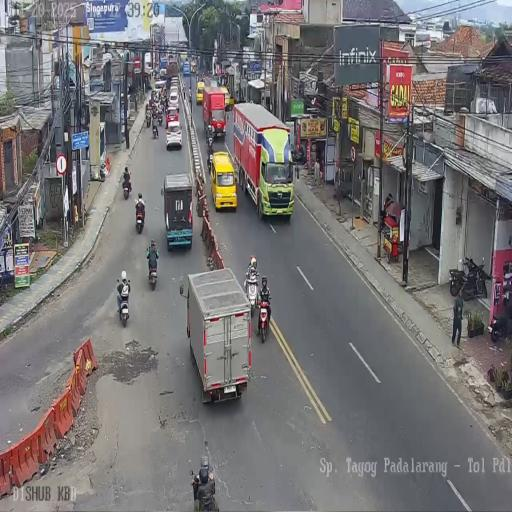car: (210, 152, 237, 212), (166, 122, 183, 150), (196, 81, 205, 105), (154, 80, 167, 95), (169, 89, 178, 108), (151, 67, 160, 78), (160, 67, 167, 79), (190, 61, 196, 74)
motorcycle: (448, 253, 490, 300), (488, 292, 512, 342), (256, 293, 271, 343), (244, 272, 258, 314), (118, 286, 130, 326), (147, 252, 158, 288), (134, 202, 146, 233), (122, 175, 132, 200), (207, 140, 214, 173), (152, 117, 159, 138), (145, 105, 151, 127), (156, 108, 163, 125), (188, 87, 191, 102)
truck: (186, 268, 254, 404), (226, 101, 292, 220), (162, 171, 193, 250), (202, 84, 229, 142), (144, 52, 152, 74)
